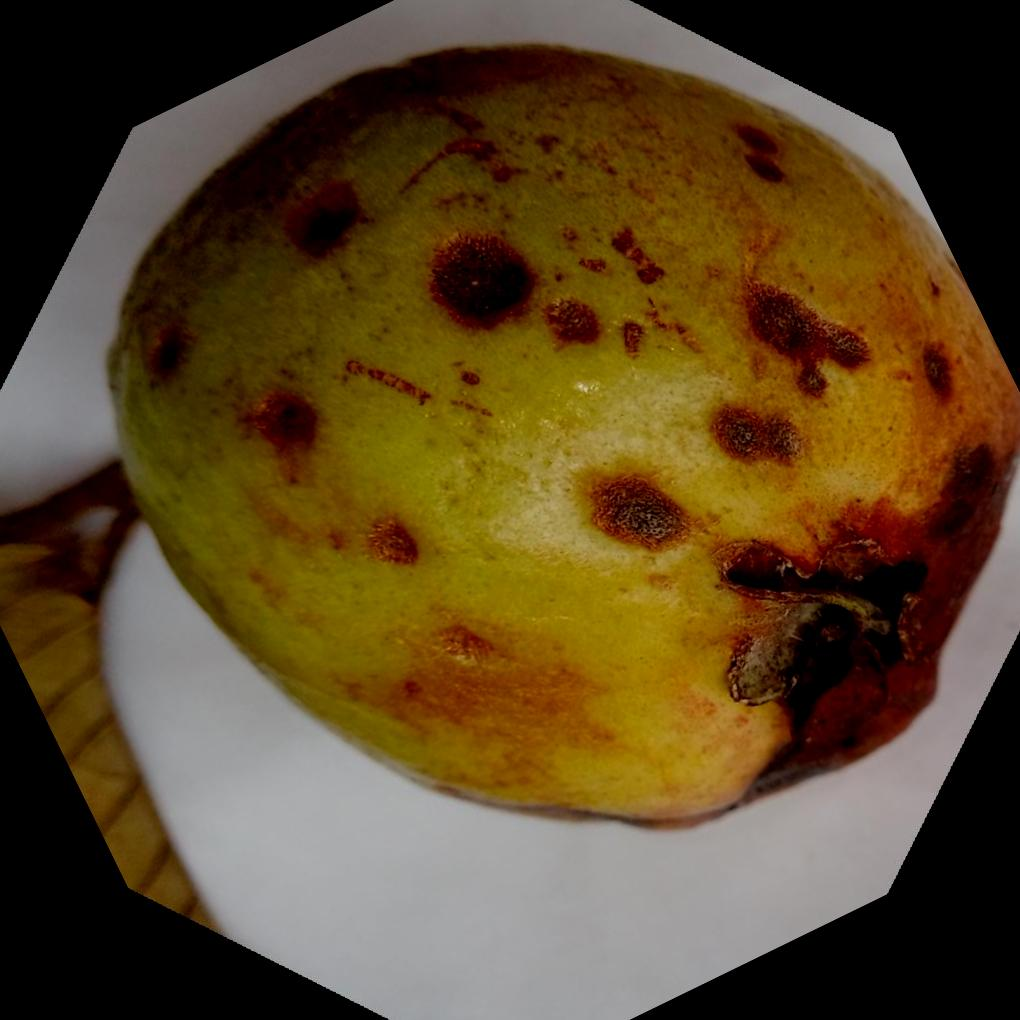FreshOrange: (101, 41, 1020, 829)
